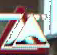Speed Breaker ahead: (4, 5, 51, 54)
